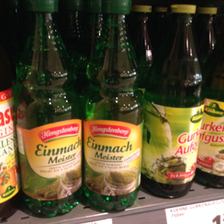vinegar: (14, 1, 84, 217), (85, 1, 143, 213), (143, 5, 200, 199)
